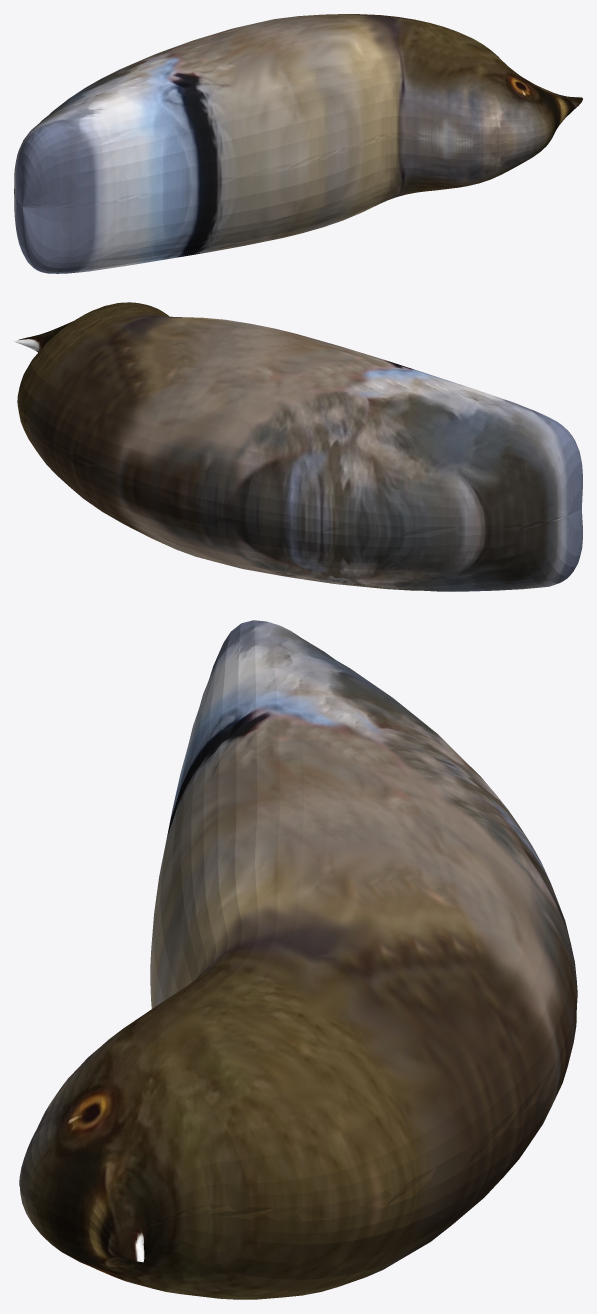
Rendered from torso_texture.dae.
The picture shows the model from 3 angles, top to bottom: view 1: azimuth 30°, elevation 25°; view 2: azimuth 150°, elevation 25°; view 3: azimuth 270°, elevation 25°; orthographic projection. The views are drawn at different scales.
Visible parts, largest first — view 1: SketchUp; view 2: SketchUp; view 3: SketchUp.
Boxes of the visible parts, <box> form: SketchUp: <box>14,14,582,273</box>; SketchUp: <box>14,302,582,591</box>; SketchUp: <box>19,620,577,1299</box>.
Size of the model in its own units: 8.54 by 3.87 by 3.02.
1 material, 1 textured.
